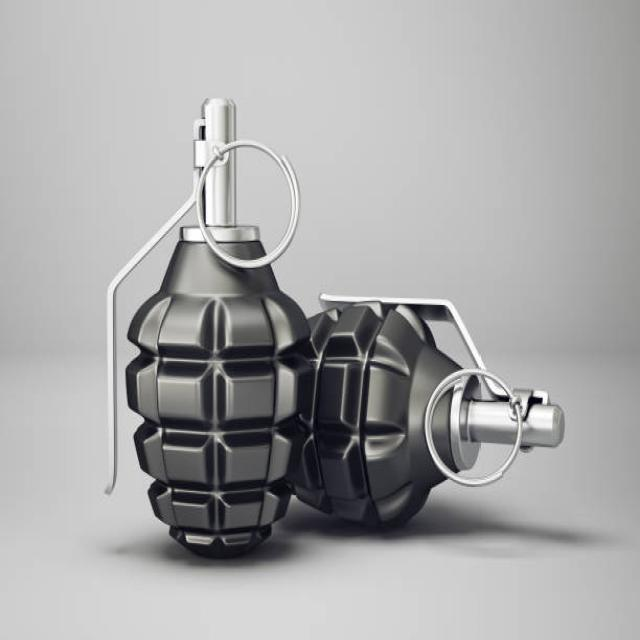grenade: (101, 86, 325, 571)
